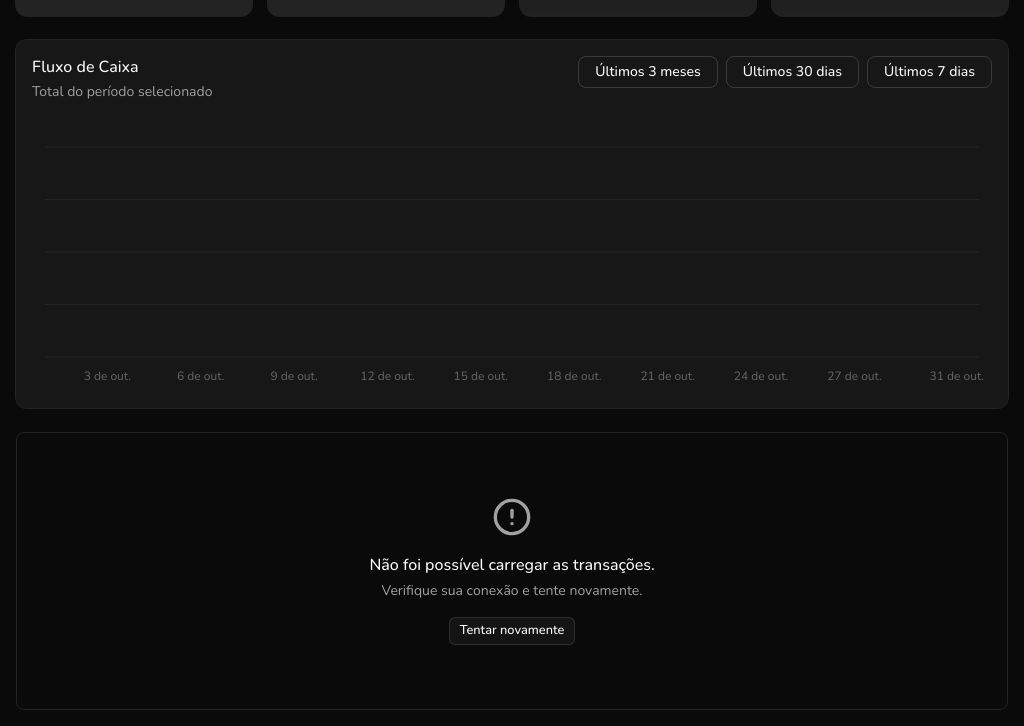
Test: FinancePage (End-to-end Cockpit Assembly) › Loading and error states › renders error state and retry action when queries fail
(page scrolled)
Check: the element with test id "transactions-error" is shown, box [16,432,1008,710]
Check: the text "Não foi possível carregar as transações." is shown, box [369,553,655,577]
Click the button "Tentar novamente". click: [512, 631]
box: [449,617,575,645]
(page scrolled)
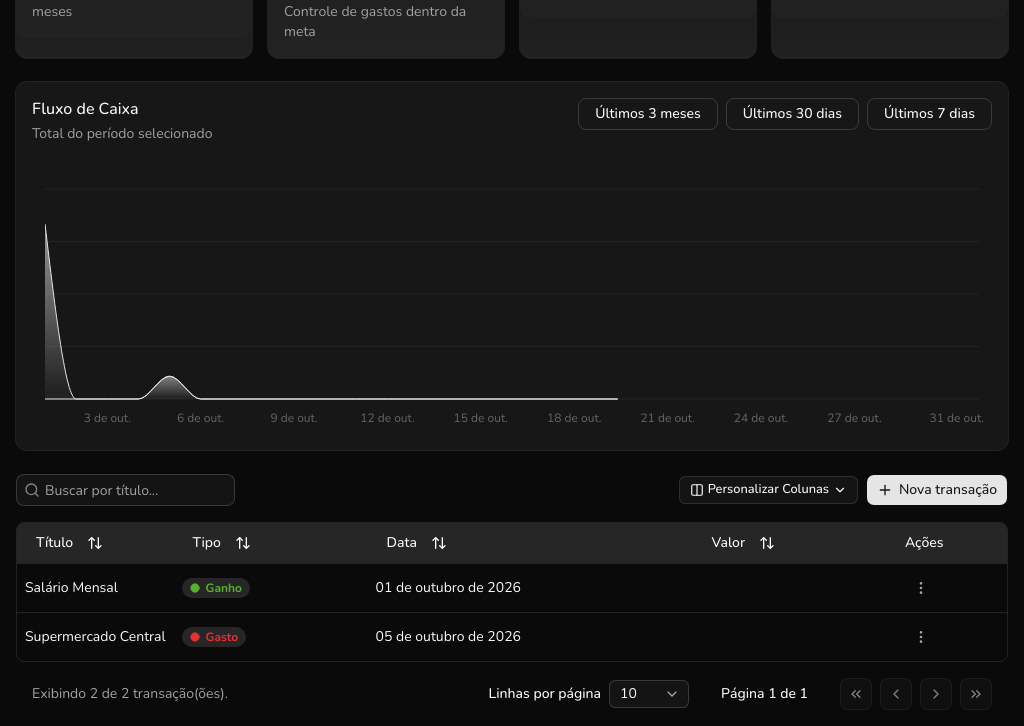
Check: the text "Salário Mensal" is shown, box [17,563,174,612]
